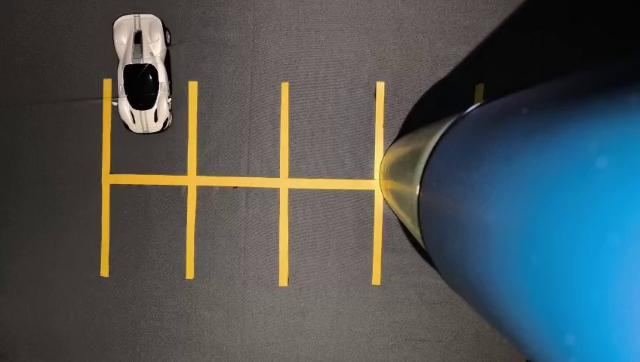toy_car: (93, 6, 196, 146)
